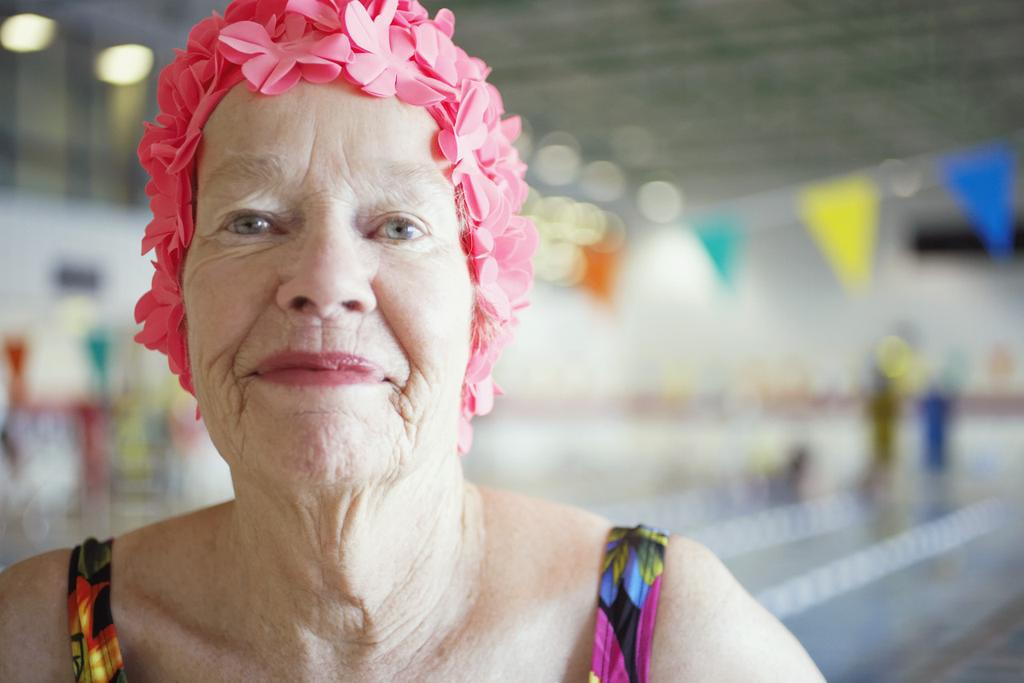face: (190, 116, 458, 484)
